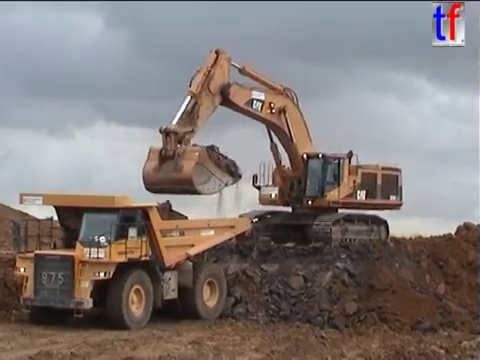excavator: (139, 46, 407, 253)
truck: (8, 190, 254, 332)
